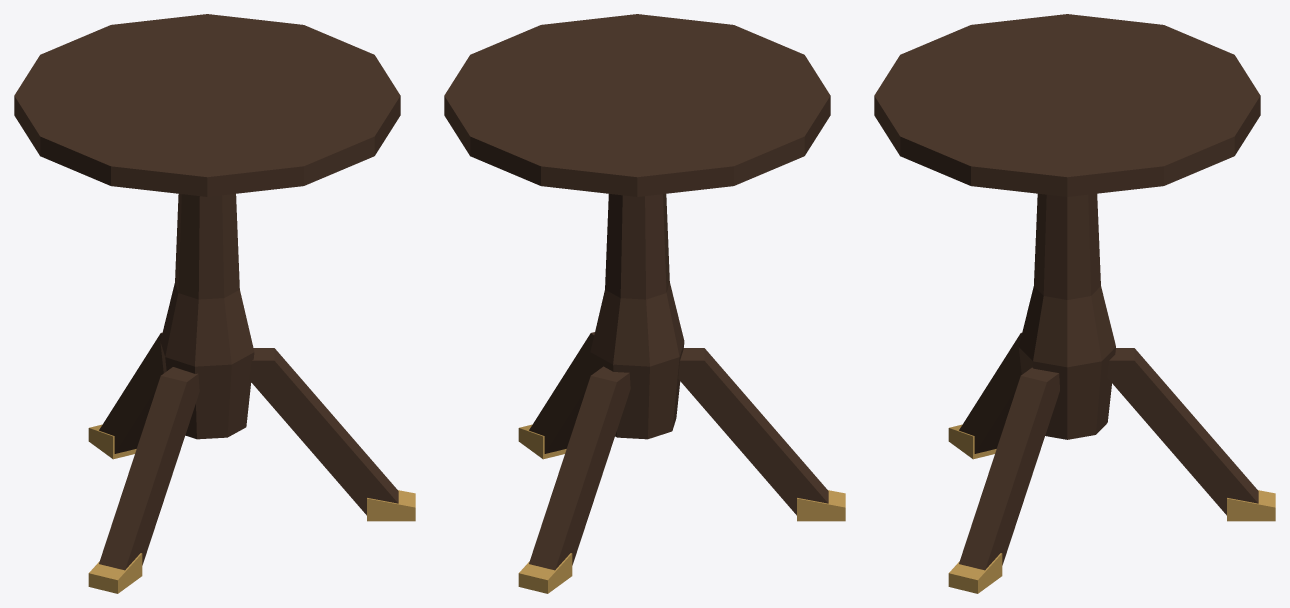
Rendered from FN_Table_Tripod.obj.
3 renders of one model, left to right at view 1: azimuth 30°, elevation 25°; view 2: azimuth 150°, elevation 25°; view 3: azimuth 270°, elevation 25°, orthographic.
Visible parts, largest first — view 1: FN_Table_Tripod; view 2: FN_Table_Tripod; view 3: FN_Table_Tripod.
Boxes of the visible parts, bbox=[...] form: FN_Table_Tripod: bbox=[14, 14, 415, 593]; FN_Table_Tripod: bbox=[444, 14, 845, 593]; FN_Table_Tripod: bbox=[874, 14, 1275, 593].
Size of the model in its own units: 0.46 by 0.55 by 0.478.
1 material, 1 textured.
